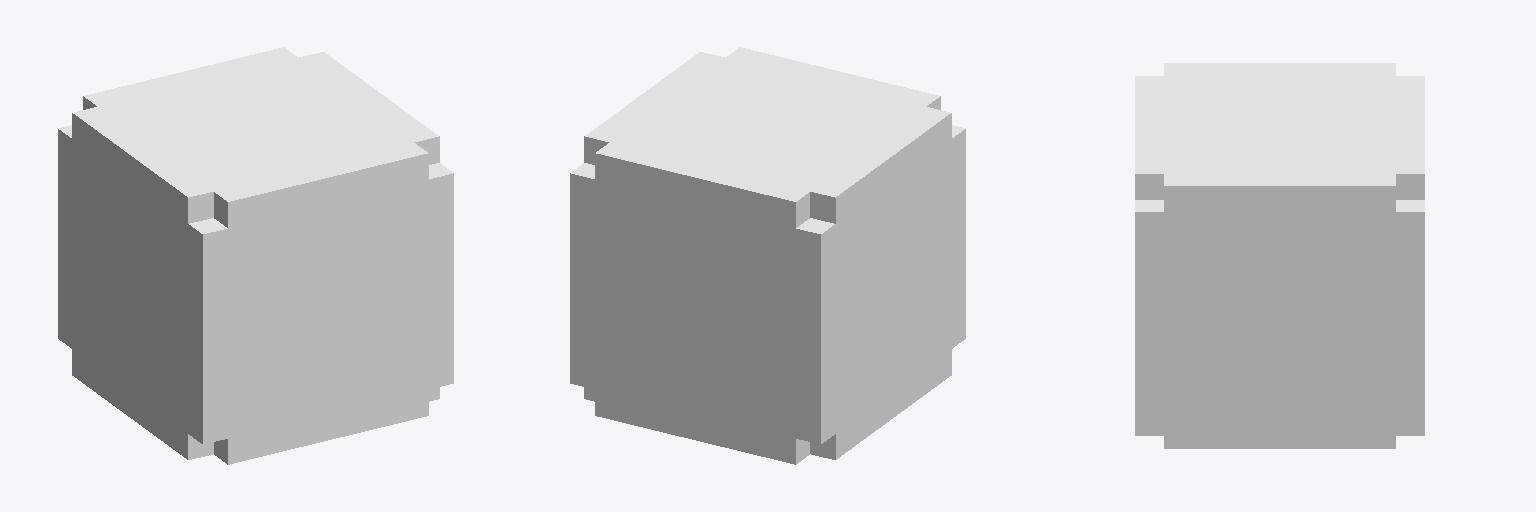
The model's file is Cubito.obj.
The picture shows the model from 3 angles: view 1: azimuth 30°, elevation 25°; view 2: azimuth 150°, elevation 25°; view 3: azimuth 270°, elevation 25°; orthographic projection.
Visible parts, largest first — view 1: object 1; view 2: object 1; view 3: object 1.
Part boxes in pixels (left/top/right/bottom): object 1: left=58, top=47, right=453, bottom=464; object 1: left=570, top=47, right=965, bottom=464; object 1: left=1135, top=63, right=1424, bottom=448.
Size of the model in its own units: 1 by 1 by 1.